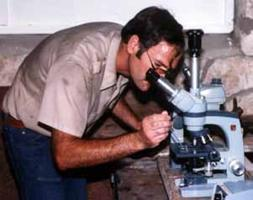person: (3, 6, 186, 200)
